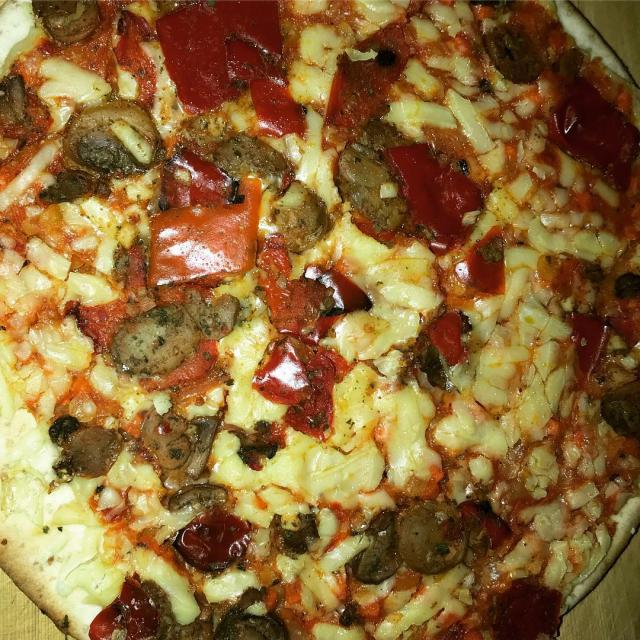mushrooms: (115, 281, 241, 370), (59, 97, 166, 172), (330, 138, 407, 237), (201, 125, 308, 193), (394, 496, 469, 570), (52, 420, 136, 481), (161, 604, 301, 640), (261, 182, 332, 252), (350, 507, 407, 588), (485, 16, 545, 84), (406, 338, 466, 405), (133, 404, 190, 471), (25, 0, 99, 40), (230, 415, 282, 469), (270, 508, 318, 559), (171, 472, 225, 506), (0, 67, 28, 131), (607, 384, 640, 431)
peppers: (145, 0, 294, 116), (148, 192, 262, 292), (320, 16, 413, 136), (391, 148, 486, 240), (546, 90, 638, 184), (283, 256, 375, 337), (173, 506, 260, 584), (77, 575, 175, 640), (254, 336, 318, 407), (566, 307, 620, 378), (462, 228, 513, 298), (252, 75, 302, 132)
